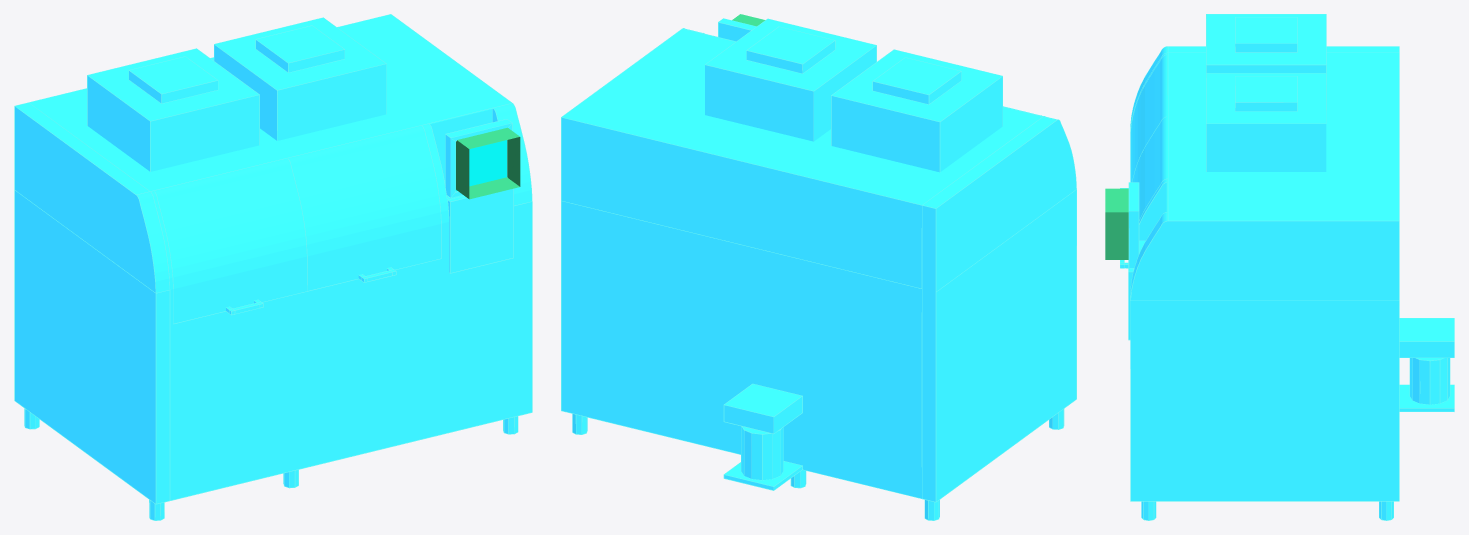
Rendered from WASH.fbx.
The picture shows the model from 3 angles, left to right: view 1: azimuth 30°, elevation 25°; view 2: azimuth 150°, elevation 25°; view 3: azimuth 270°, elevation 25°; orthographic projection. The views are drawn at different scales.
Parts seen in each view (by area): view 1: 1, 框本体1_003; view 2: 1; view 3: 1, 框本体1_003.
Boxes of the visible parts, left/top/right/bottom form: 1: left=14, top=14, right=532, bottom=520; 框本体1_003: left=456, top=127, right=520, bottom=199; 1: left=561, top=18, right=1076, bottom=520; 1: left=1120, top=14, right=1454, bottom=520; 框本体1_003: left=1105, top=188, right=1128, bottom=259.
Size of the model in its own units: 178 by 170 by 150.
Materials: 4 (1 with a texture image).
